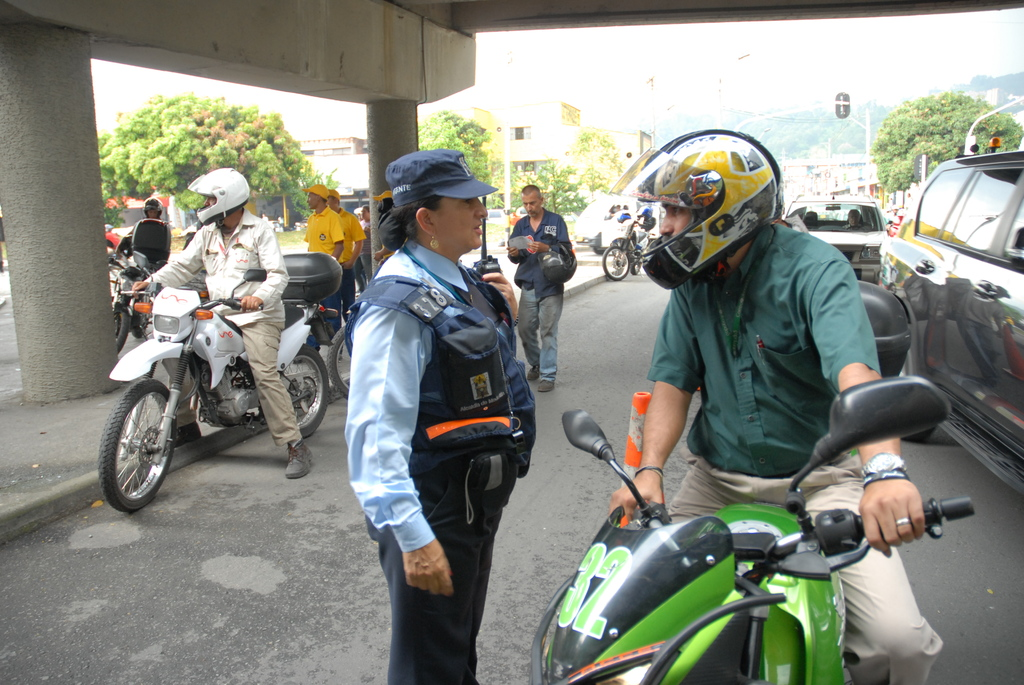Tree: (96, 91, 317, 214), (869, 93, 1023, 193), (416, 111, 501, 206), (558, 129, 627, 216), (492, 162, 588, 216)
